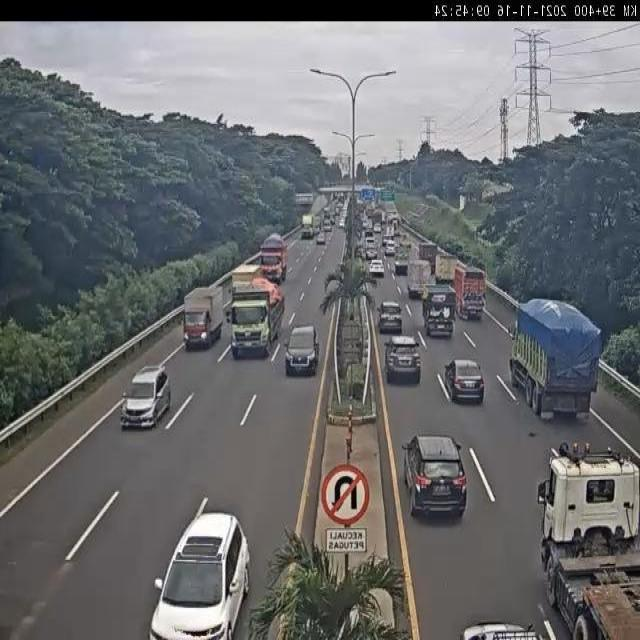Car: (147, 512, 250, 640), (400, 432, 466, 521), (120, 364, 171, 429), (444, 357, 484, 405), (384, 335, 422, 385), (284, 324, 320, 376), (377, 300, 403, 334), (369, 259, 385, 278), (365, 243, 377, 260), (384, 240, 396, 256), (381, 234, 392, 246), (316, 232, 326, 245), (364, 236, 376, 245), (338, 218, 346, 229), (374, 223, 381, 234), (364, 228, 372, 236)
Truck: (535, 440, 640, 639), (506, 298, 605, 424), (226, 272, 286, 360), (182, 286, 224, 352), (422, 283, 456, 337), (453, 266, 486, 320), (258, 233, 288, 284), (407, 258, 431, 298), (434, 253, 458, 287), (228, 263, 261, 286), (418, 241, 438, 272), (393, 246, 410, 273), (302, 213, 316, 239), (389, 214, 400, 232), (398, 232, 412, 246), (384, 223, 395, 240)
